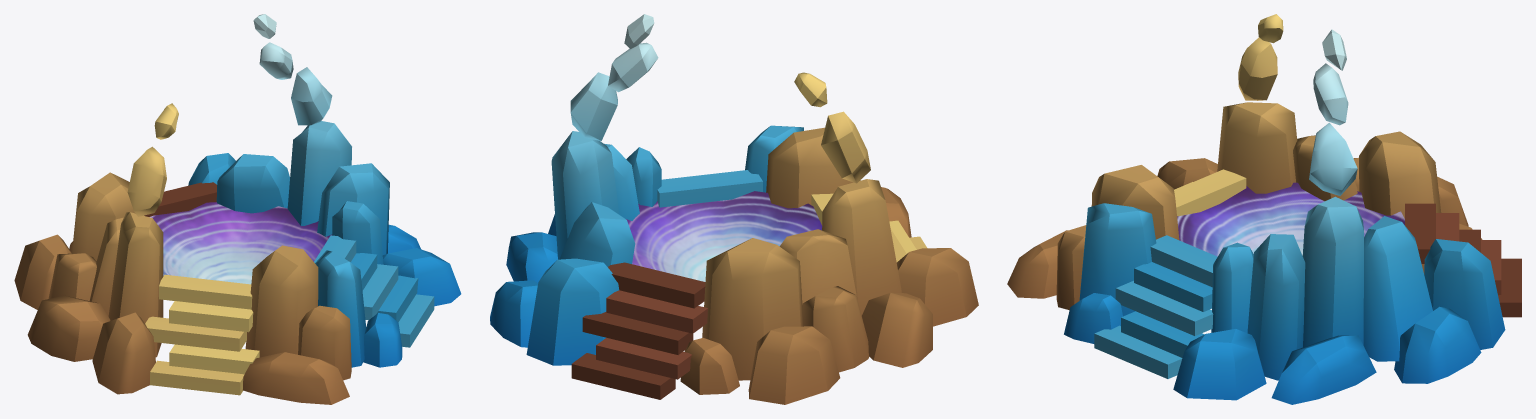
Rendered from SM_ME_Well.fbx.
3 renders of one model, left to right at view 1: azimuth 30°, elevation 25°; view 2: azimuth 150°, elevation 25°; view 3: azimuth 270°, elevation 25°, orthographic. The views are drawn at different scales.
Visible parts, largest first — view 1: Portal1, Whirlpool; view 2: Portal1, Whirlpool; view 3: Portal1, Whirlpool.
Part boxes in pixels (x1,y1,x2,y2): Portal1: [14, 14, 461, 404]; Whirlpool: [149, 202, 332, 284]; Portal1: [490, 14, 978, 404]; Whirlpool: [626, 191, 822, 281]; Portal1: [1007, 14, 1521, 404]; Whirlpool: [1177, 182, 1404, 256].
Bounding box in the file's own units: 39.21 × 27.05 × 40.9.
